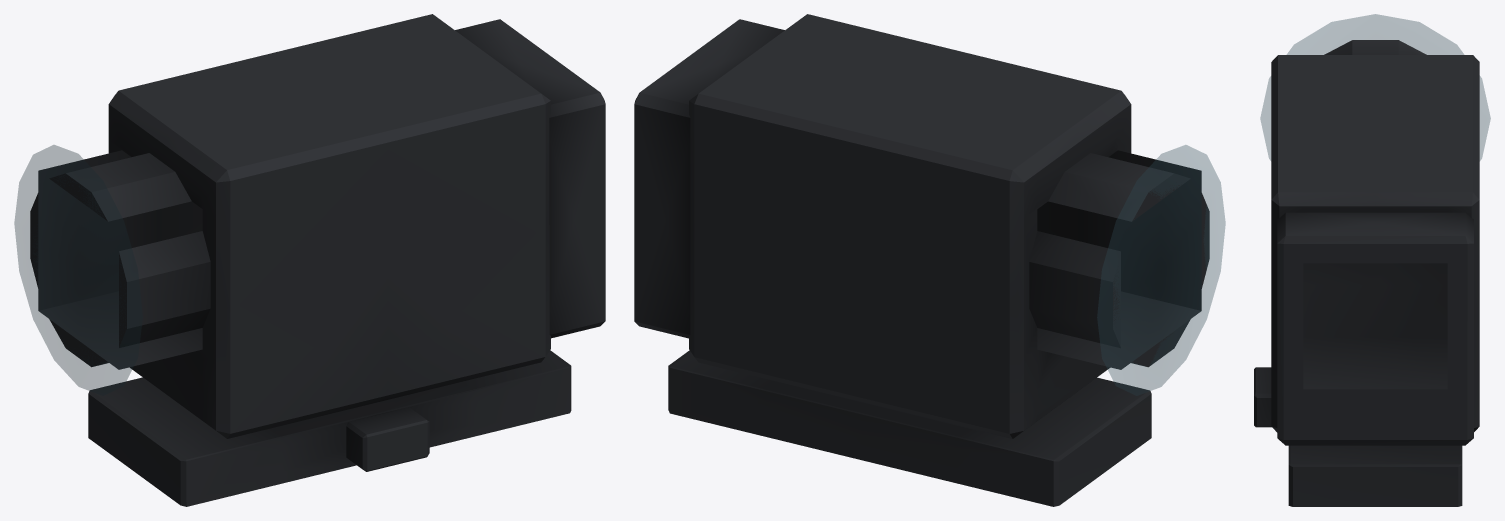
File: k-att-magnified-lprisma2x.glb
3 renders of one model, left to right at view 1: azimuth 30°, elevation 25°; view 2: azimuth 150°, elevation 25°; view 3: azimuth 270°, elevation 25°, orthographic. The views are drawn at different scales.
Parts seen in each view (by area): view 1: kit, lens; view 2: kit, lens; view 3: kit, lens.
Boxes of the visible parts, left/top/right/bottom form: kit: left=30, top=14, right=605, bottom=506; lens: left=14, top=145, right=142, bottom=395; kit: left=634, top=14, right=1209, bottom=506; lens: left=1097, top=145, right=1225, bottom=395; kit: left=1254, top=40, right=1479, bottom=506; lens: left=1260, top=14, right=1490, bottom=160.
Size of the model in its own units: 0.085 by 0.057 by 0.041.
